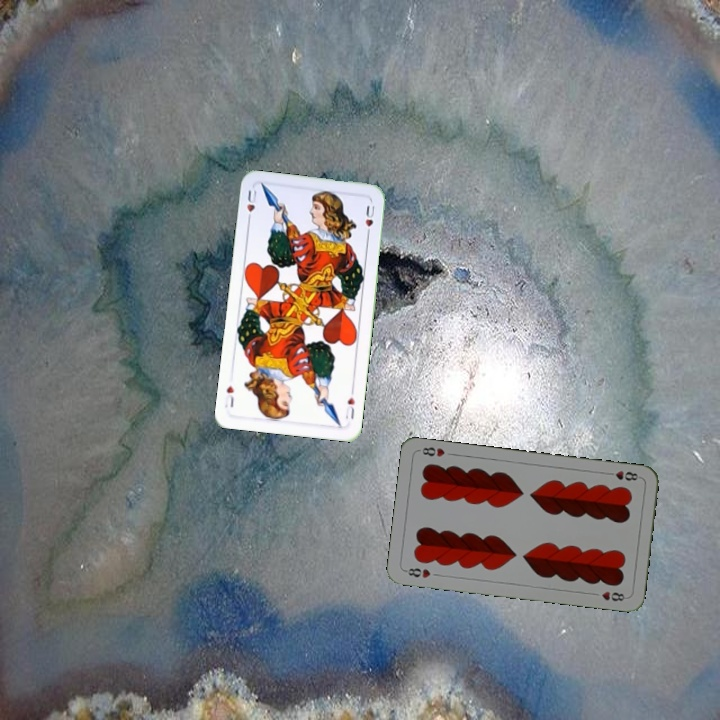H8: (603, 467, 643, 483), (401, 564, 433, 581)
HU: (243, 185, 259, 225), (341, 385, 357, 421)
